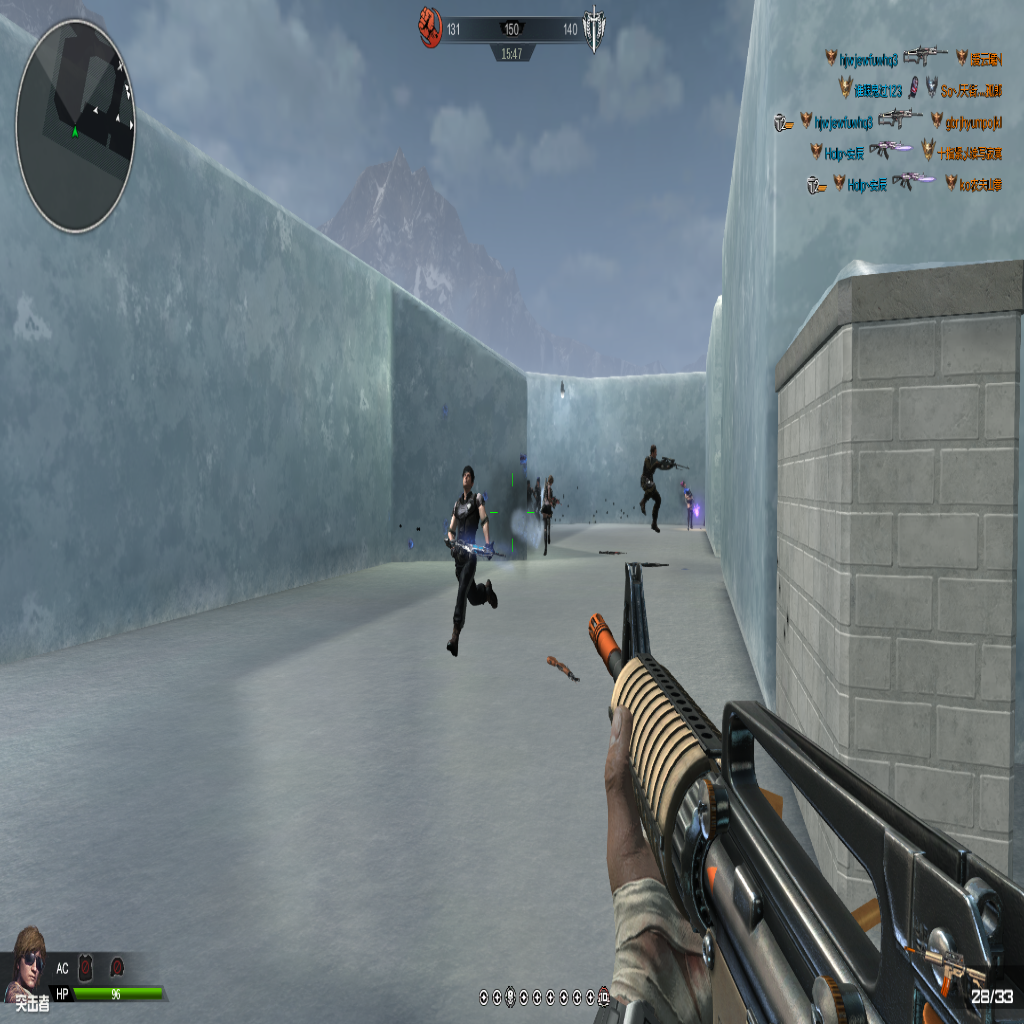ct: (446, 466, 496, 649), (638, 442, 687, 532), (541, 472, 558, 546), (683, 483, 695, 530), (533, 476, 541, 512)
